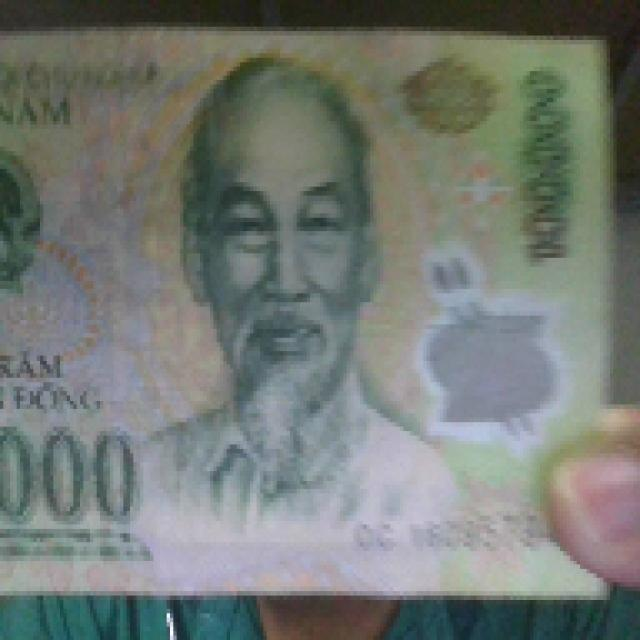100 000 VND: (0, 18, 620, 604)
